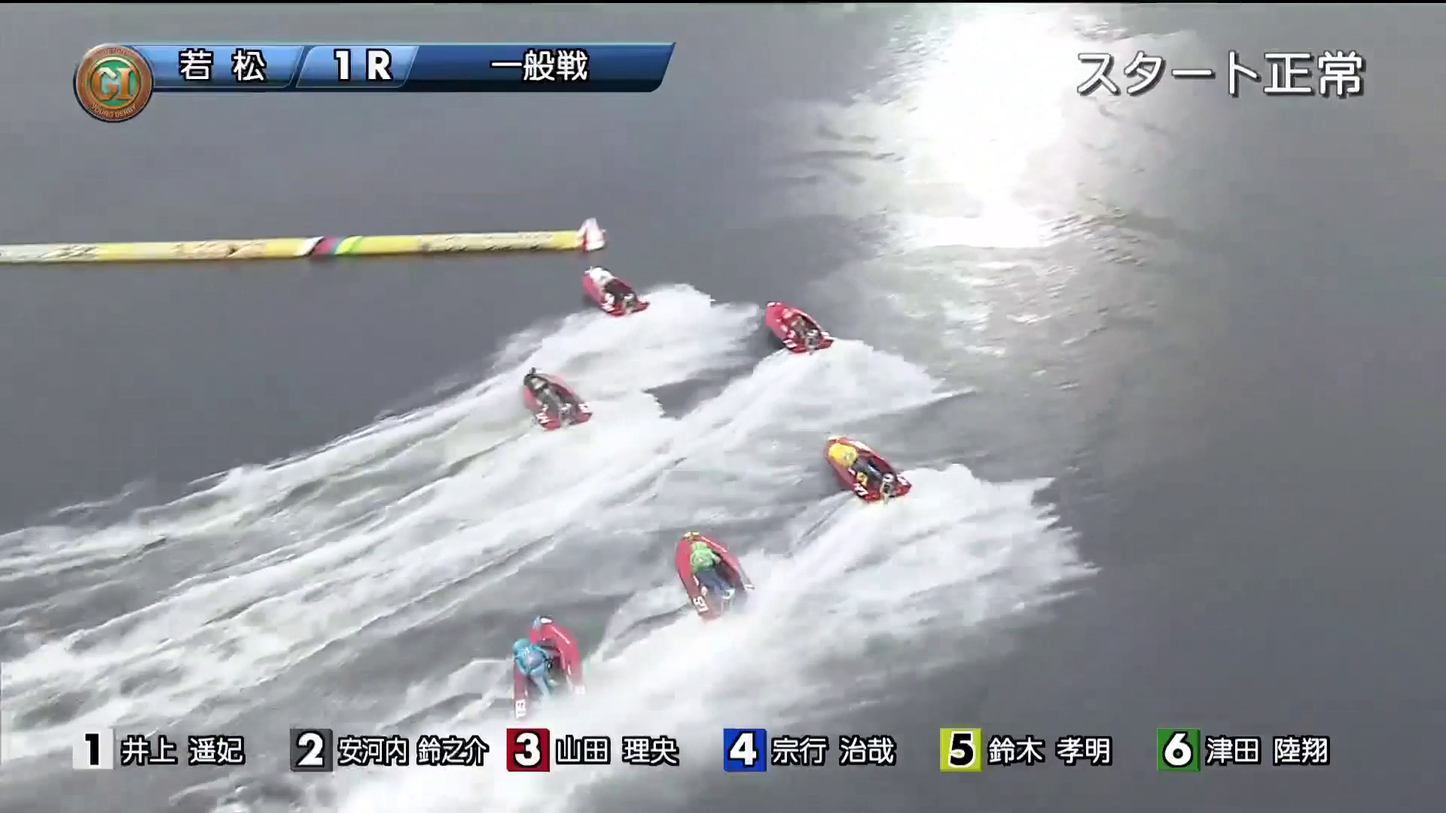１号艇: (590, 259, 660, 313)
２号艇: (515, 368, 643, 429)
３号艇: (767, 300, 864, 346)
４号艇: (674, 537, 808, 602)
５号艇: (493, 638, 616, 693)
６号艇: (840, 443, 939, 499)
